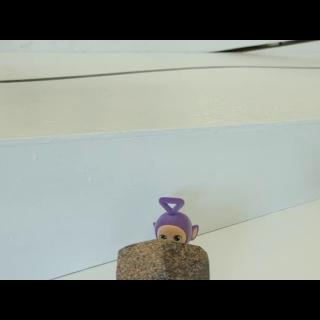teletubby: (153, 197, 198, 244)
